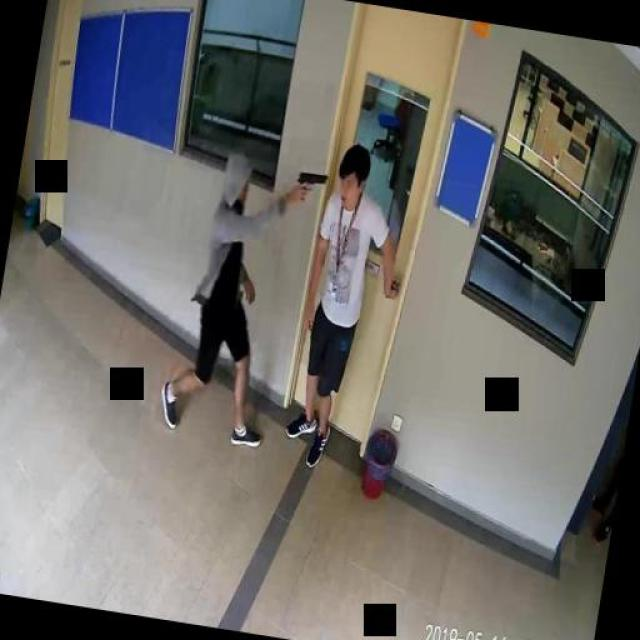gun: (292, 166, 326, 206)
